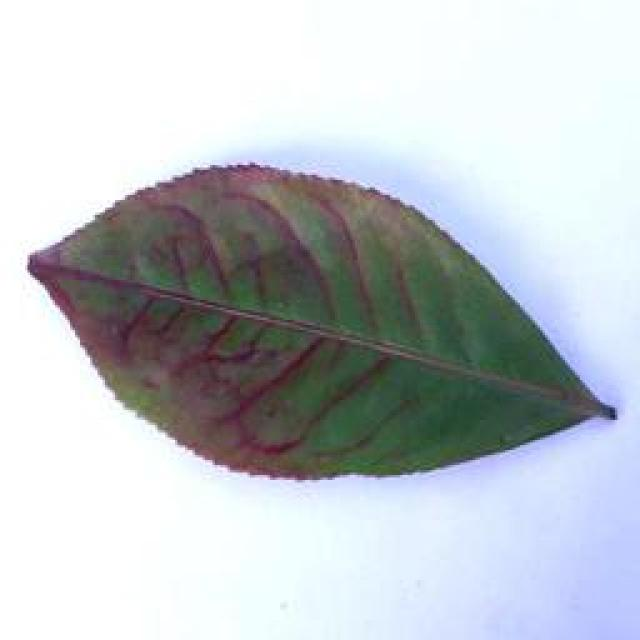Red Leaf Spot: (26, 152, 632, 498)
